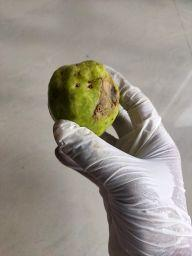guava: (47, 57, 123, 139)
